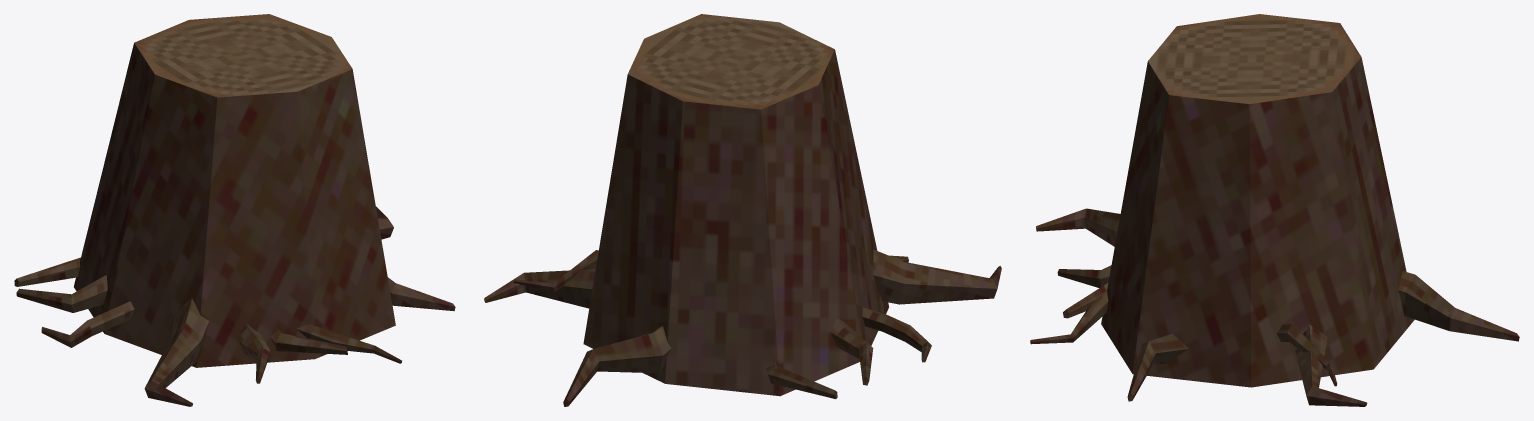
File: stump.glb
3 renders of one model, left to right at view 1: azimuth 30°, elevation 25°; view 2: azimuth 150°, elevation 25°; view 3: azimuth 270°, elevation 25°, orthographic. The views are drawn at different scales.
Parts seen in each view (by area): view 1: stump; view 2: stump; view 3: stump.
Part boxes in pixels (x1=…): stump: x1=14, y1=14, x2=455, y2=406; stump: x1=484, y1=14, x2=1001, y2=406; stump: x1=1030, y1=14, x2=1519, y2=406.
Size of the model in its own units: 2.62 by 1.65 by 2.75.
Materials: 1 (1 with a texture image).
